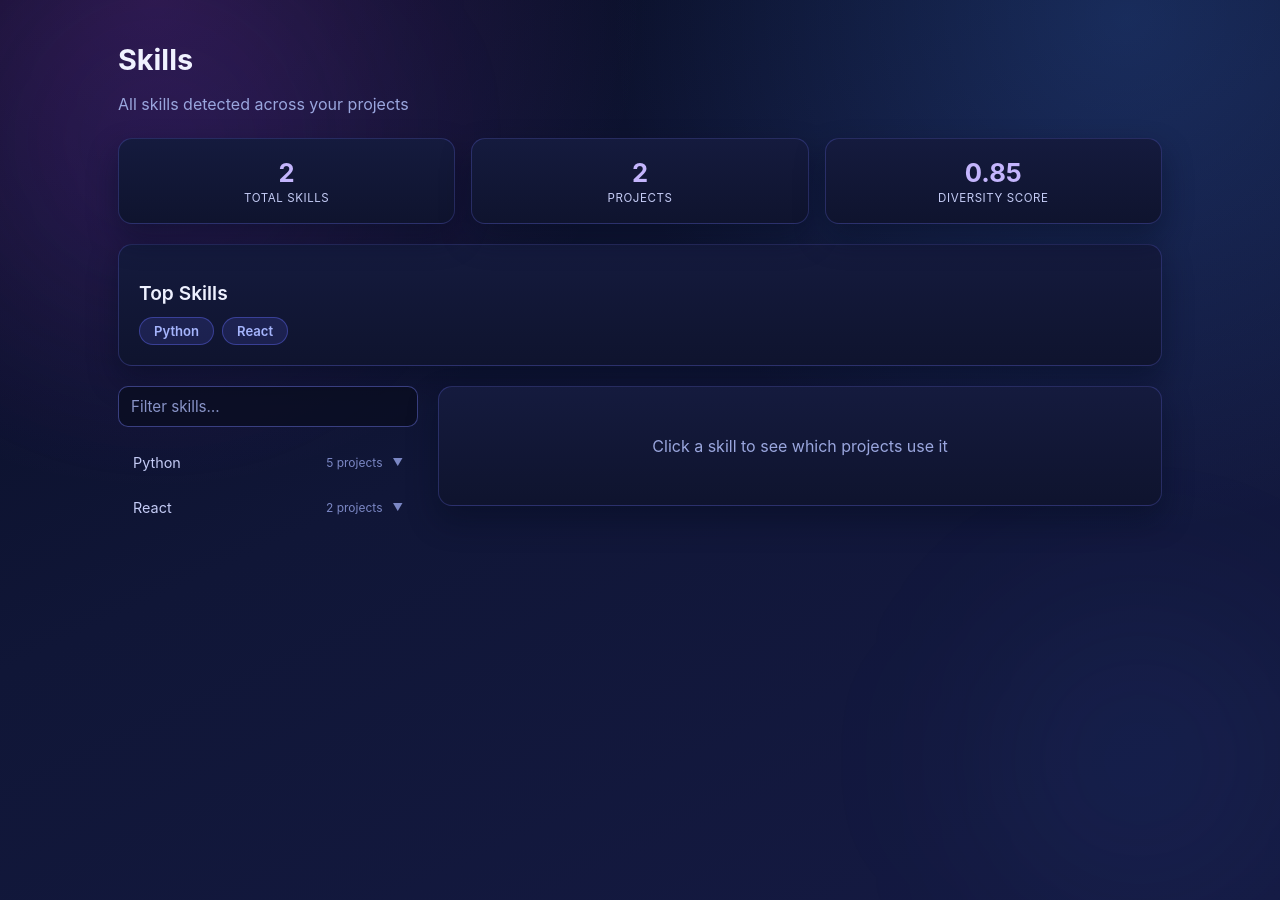
Scenario: Skills - detail panel › collapses skill detail on second click
This screenshot has width=1280, height=900.
What coordinates should you click on to do the following:
click the text "Python"
I would click on:
 (157, 462)
Its box is [133,454,403,471].
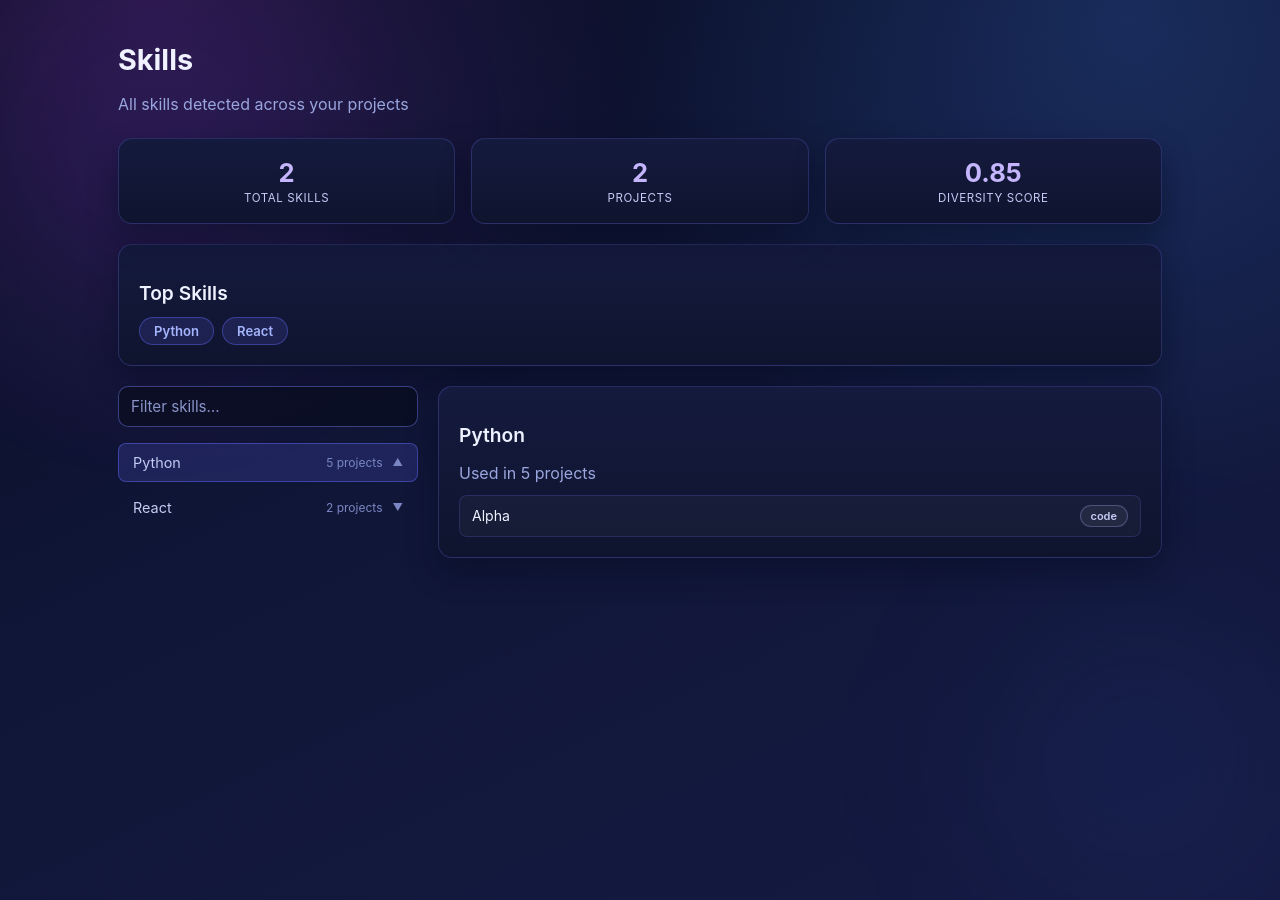
Result: the text "Used in 5 projects" is shown at [459,463,596,483]
What coordinates should you click on to do the following:
click the text "Python"
I would click on:
 (268, 462)
Its box is [118,443,418,482].
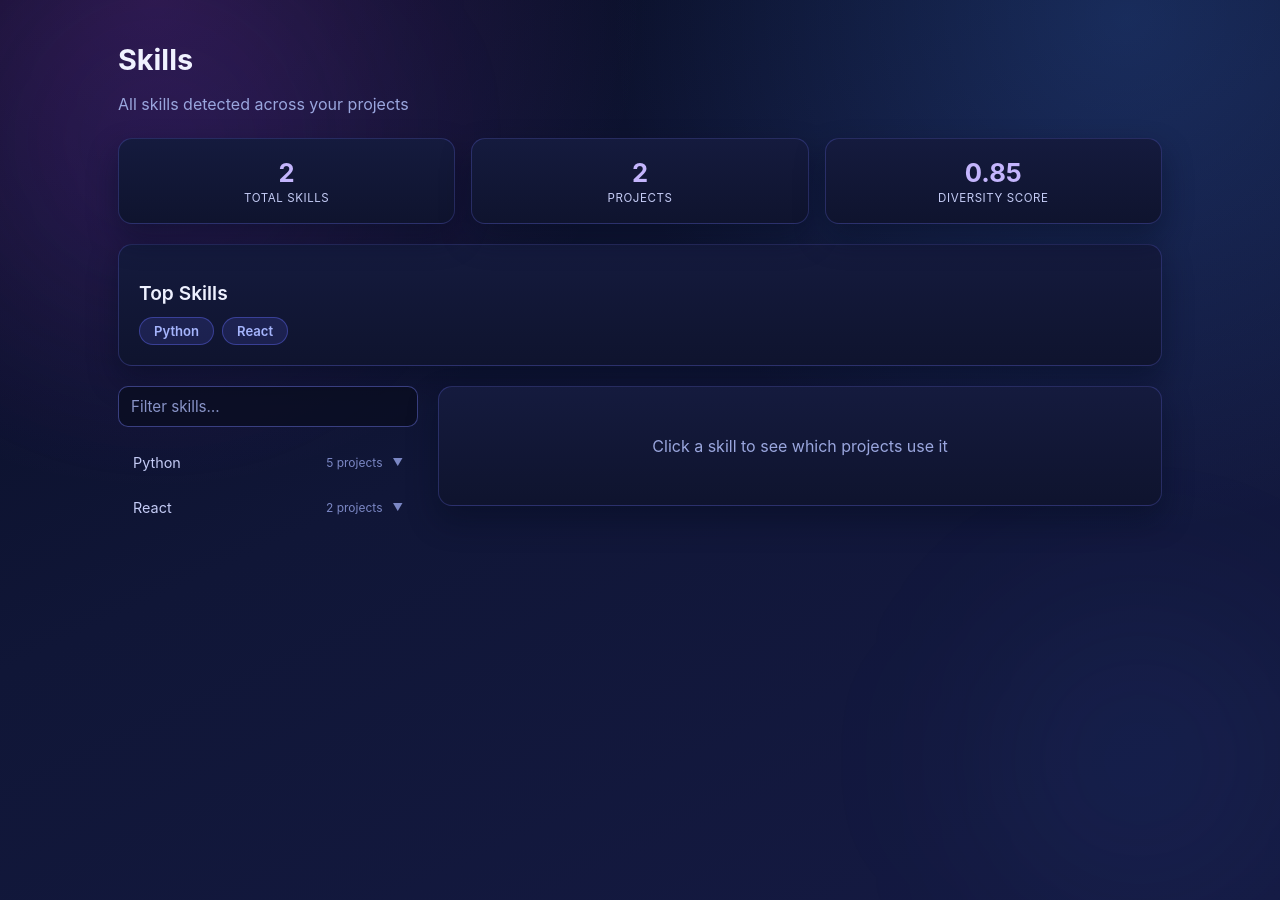
Result: the text "Used in 5 project" is gone
